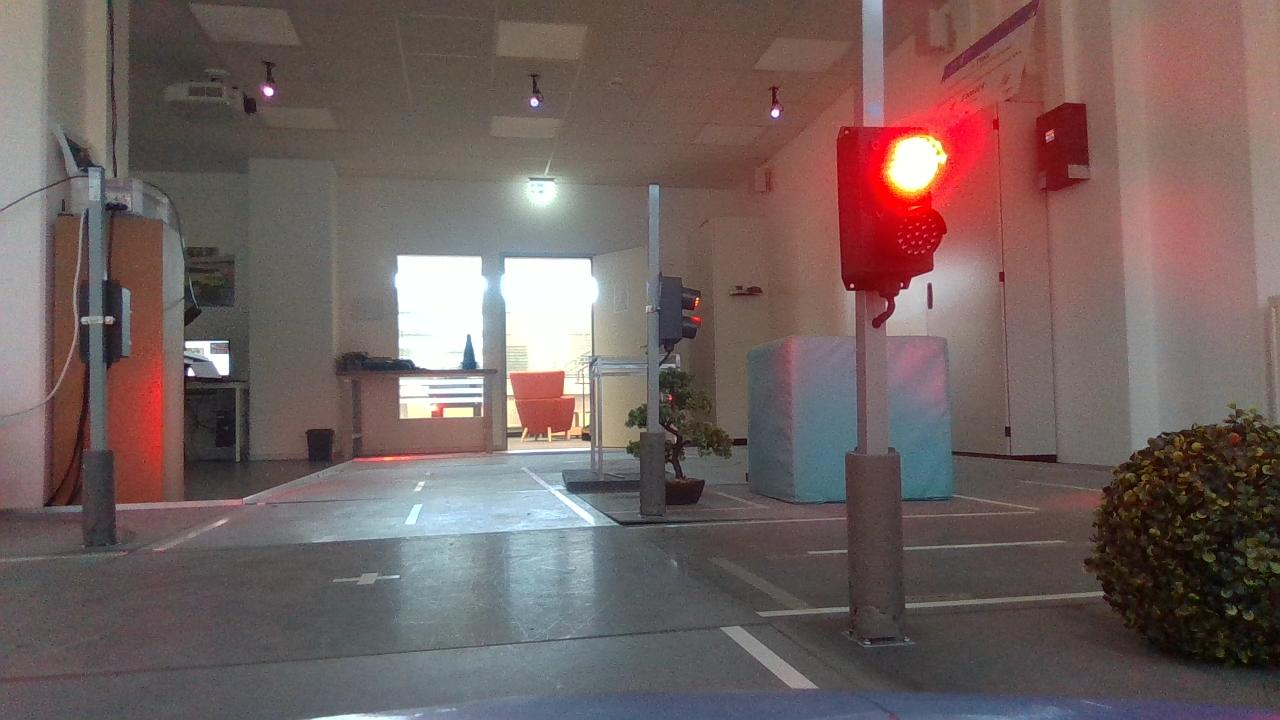traffic_light_red: (819, 104, 964, 299)
